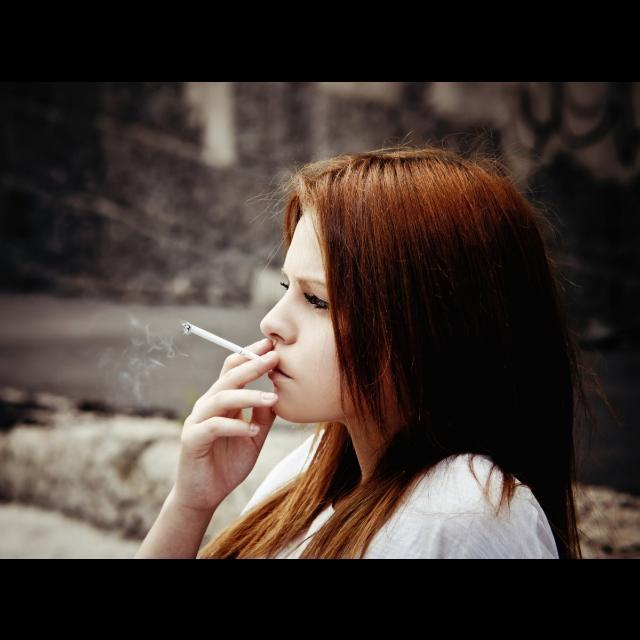rokok: (180, 318, 264, 364)
